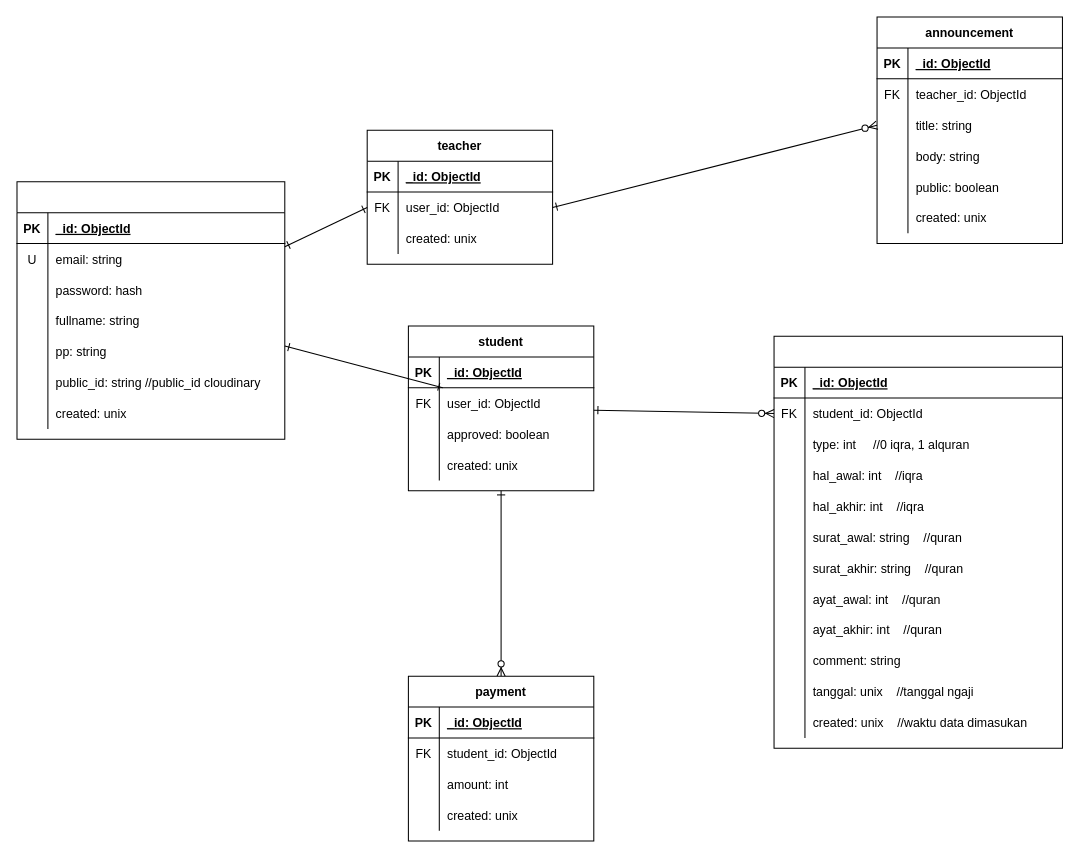
The diagram is 1079 pixels wide and 858 high, and some of its shapes have lost their labels. The box of each missing label's shape, as (x1, y1, x2, y2) in pixels:
progress: (773, 335, 1062, 748)
user: (16, 181, 285, 439)
